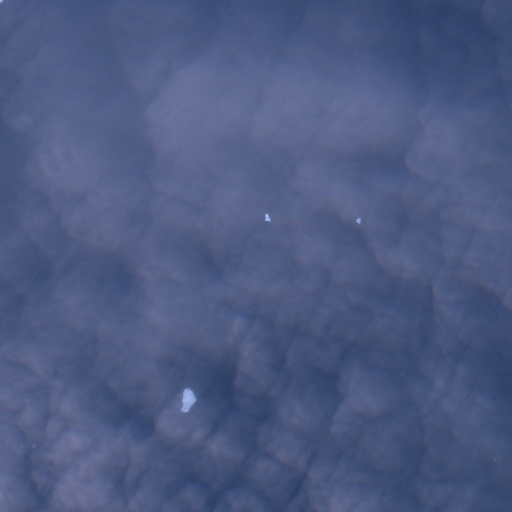Iceberg: (181, 388, 196, 412), (265, 213, 270, 221), (356, 218, 360, 223), (0, 0, 2, 2), (32, 445, 34, 447)
